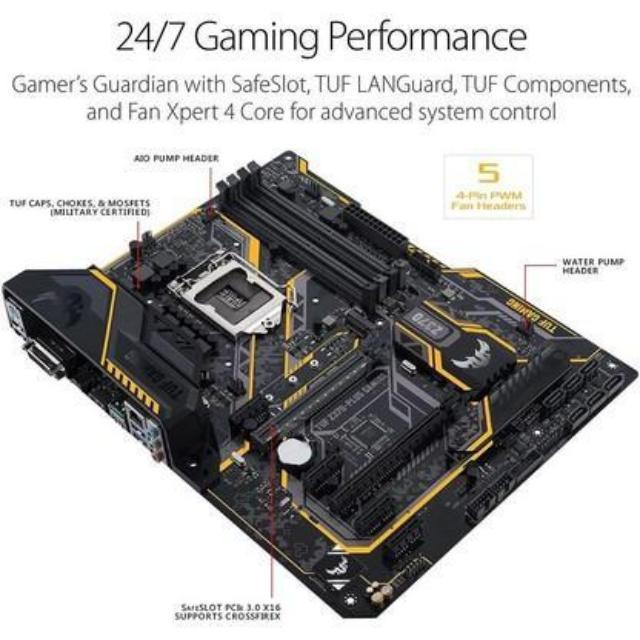Mainboard: (0, 147, 640, 618)
